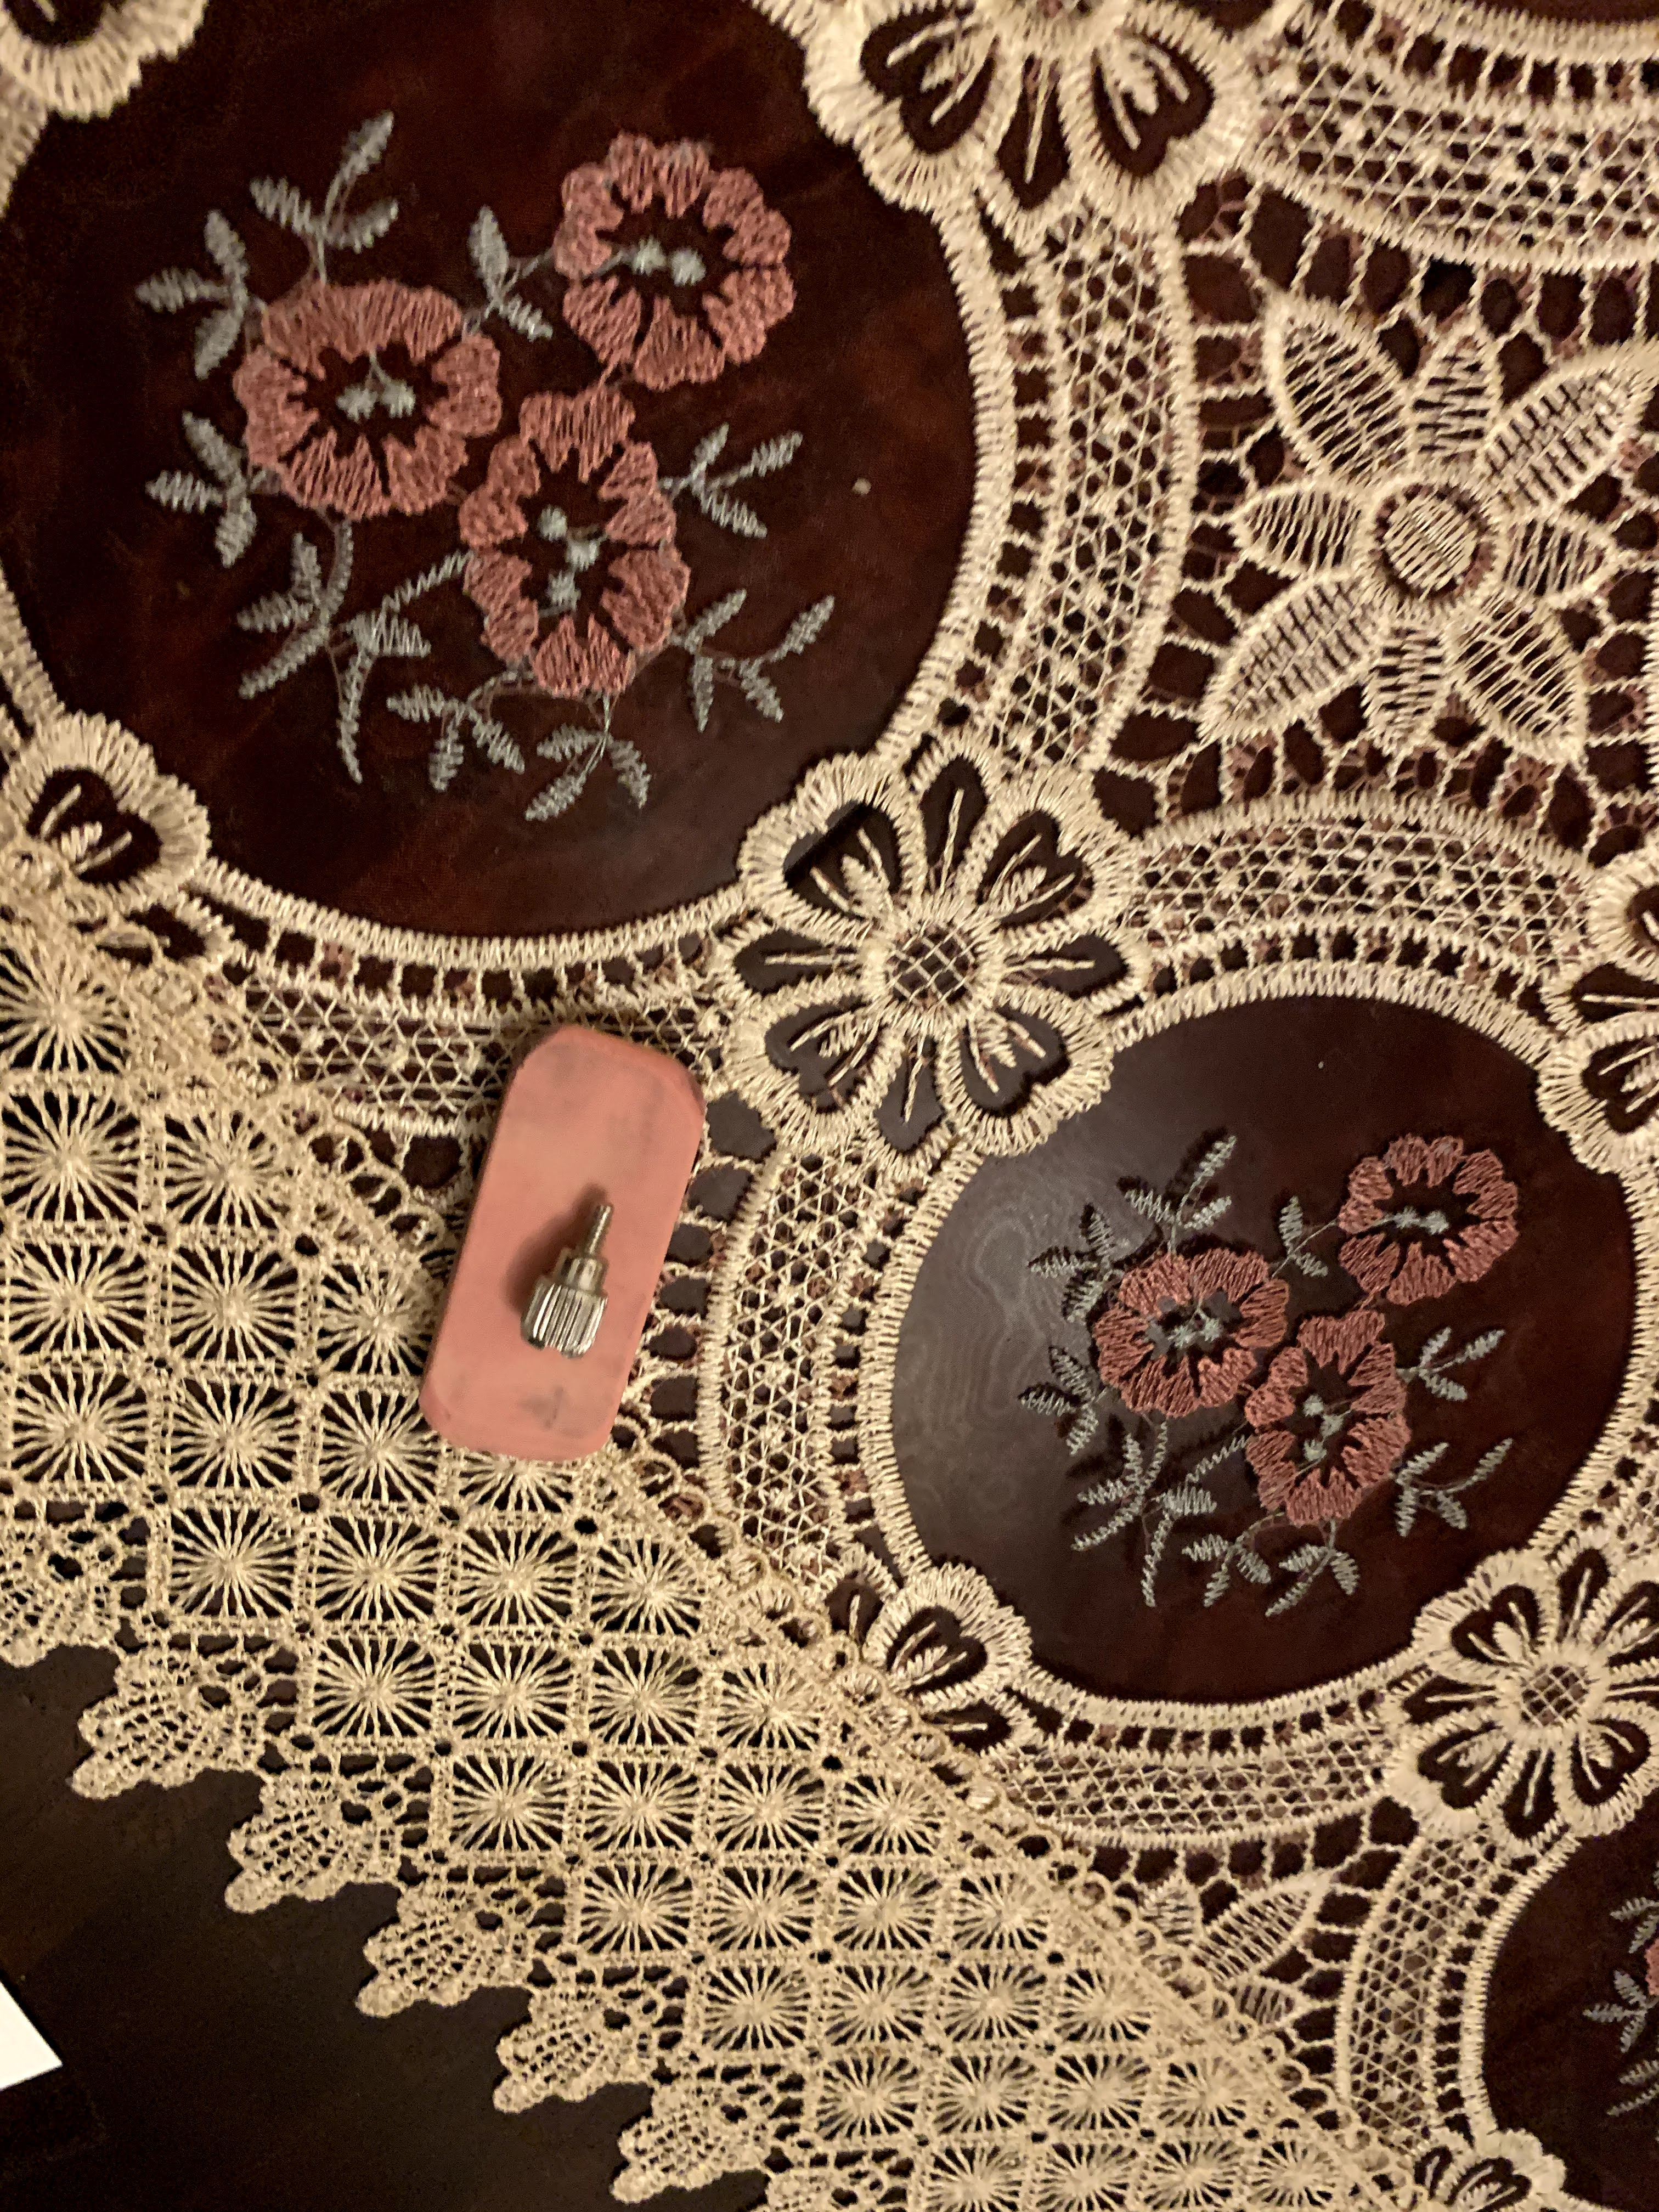Space-debris-small: (519, 1172, 620, 1366)
